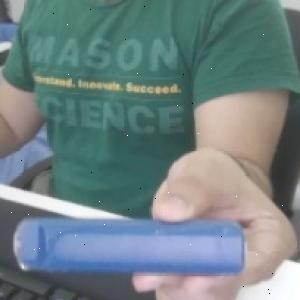Diamond-E-Ciggirate: (12, 215, 248, 278)
